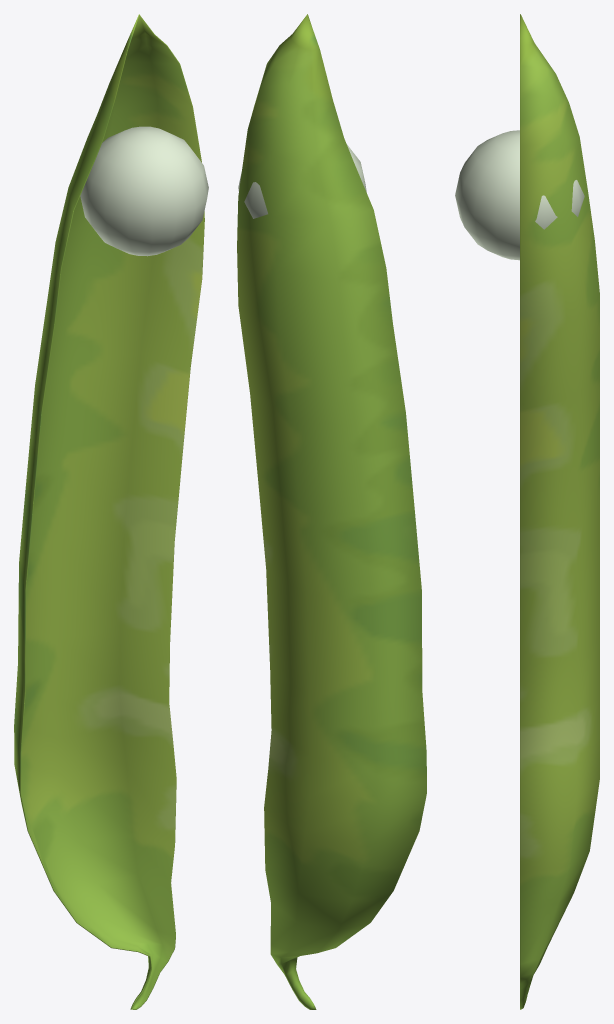
File: beans 1.FBX
3 renders of one model, left to right at view 1: azimuth 30°, elevation 25°; view 2: azimuth 150°, elevation 25°; view 3: azimuth 270°, elevation 25°, orthographic.
Visible parts, largest first — view 1: bean_half, bean_sphere1; view 2: bean_half, bean_sphere1; view 3: bean_half, bean_sphere1.
Boxes of the visible parts, x1,y1,x2,y2 form: bean_half: [14, 14, 204, 1009]; bean_sphere1: [80, 126, 208, 256]; bean_half: [237, 14, 426, 1009]; bean_sphere1: [238, 144, 366, 218]; bean_half: [520, 14, 599, 1009]; bean_sphere1: [455, 130, 584, 260].
Size of the model in its own units: 9.07 by 46.7 by 6.15.
Materials: 2 (1 with a texture image).
